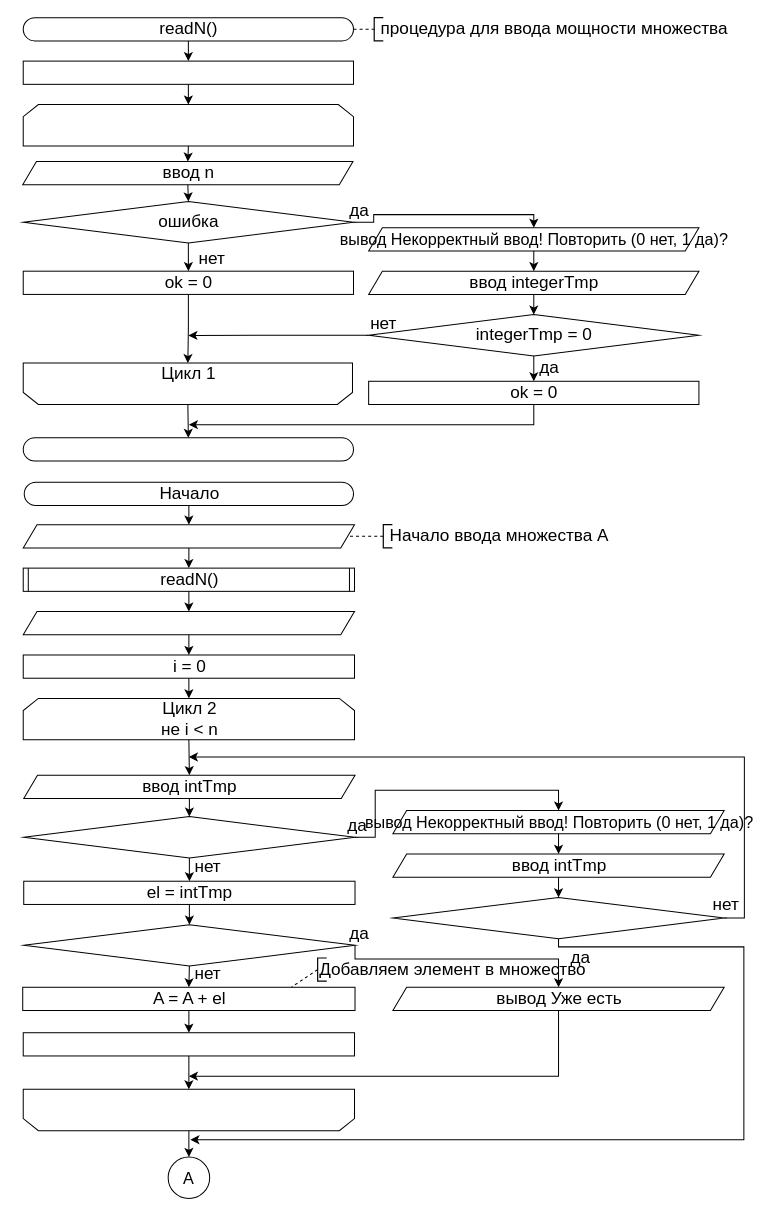
Image size: 771x1217. Some labels were removed from this diagram. The centre of each missing label's shape, as x and y in pixels:
el в множестве A: the point at 189,945
i = i + 1: the point at 188,1044
intTmp = 0: the point at 558,917
intTmp не целое или intTmp < 0: the point at 189,837
ok = 1: the point at 188,72
readN: the point at 188,449
вывод Введите мощность A (натуральных):: the point at 188,536
вывод Введите элементы:: the point at 188,623
Цикл 1 ok = 0: the point at 188,125
Цикл 2: the point at 188,1109
